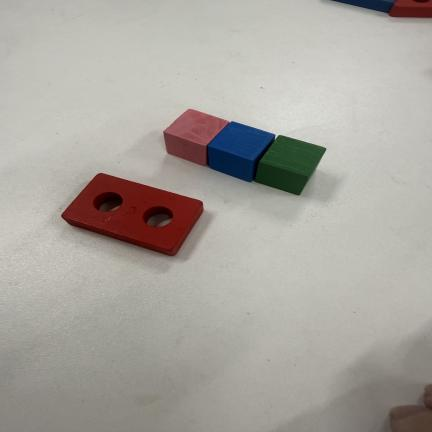BuildingBlocks: (62, 174, 203, 255), (206, 122, 325, 194), (255, 136, 325, 194), (208, 122, 275, 181), (164, 110, 228, 165), (335, 0, 394, 12), (390, 0, 431, 17)
